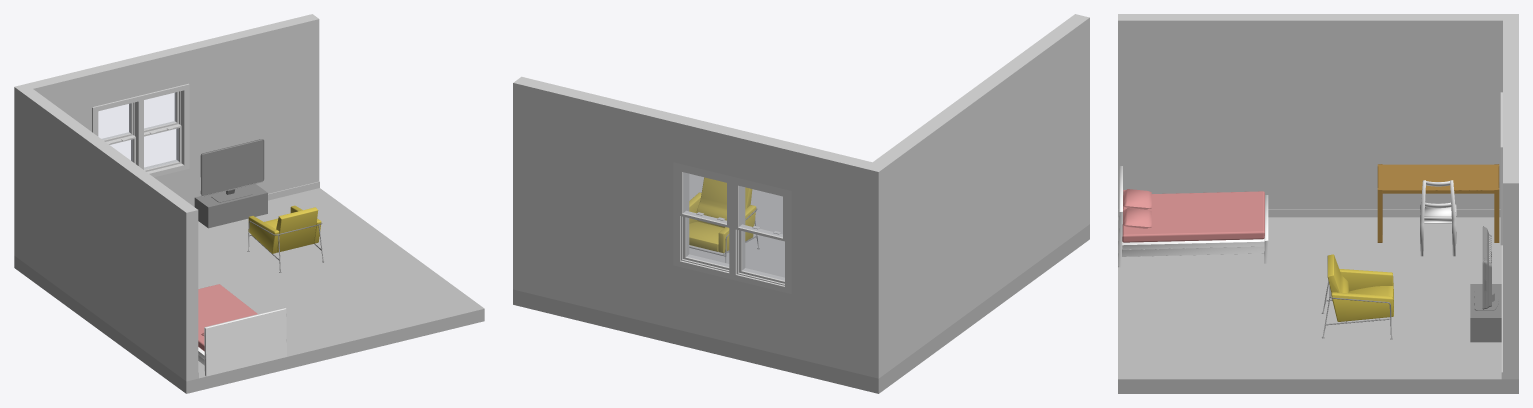
Rendered from L16_W16_furniture3_circulation1.glb.
3 views of the same model, side by side, from view 1: azimuth 30°, elevation 25°; view 2: azimuth 150°, elevation 25°; view 3: azimuth 270°, elevation 25° (orthographic). The views are drawn at different scales.
Size of the model in its own units: 200 by 116 by 200.
